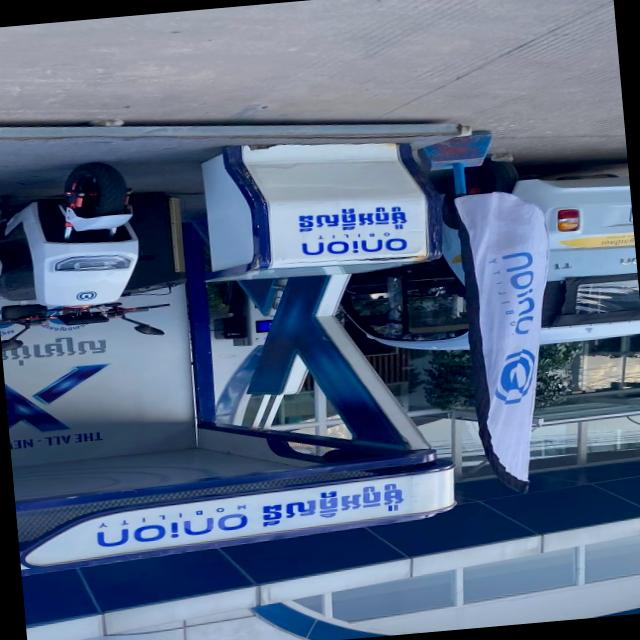Yolov11_80vkh: (256, 481, 406, 530), (6, 333, 113, 368), (294, 205, 416, 235)
